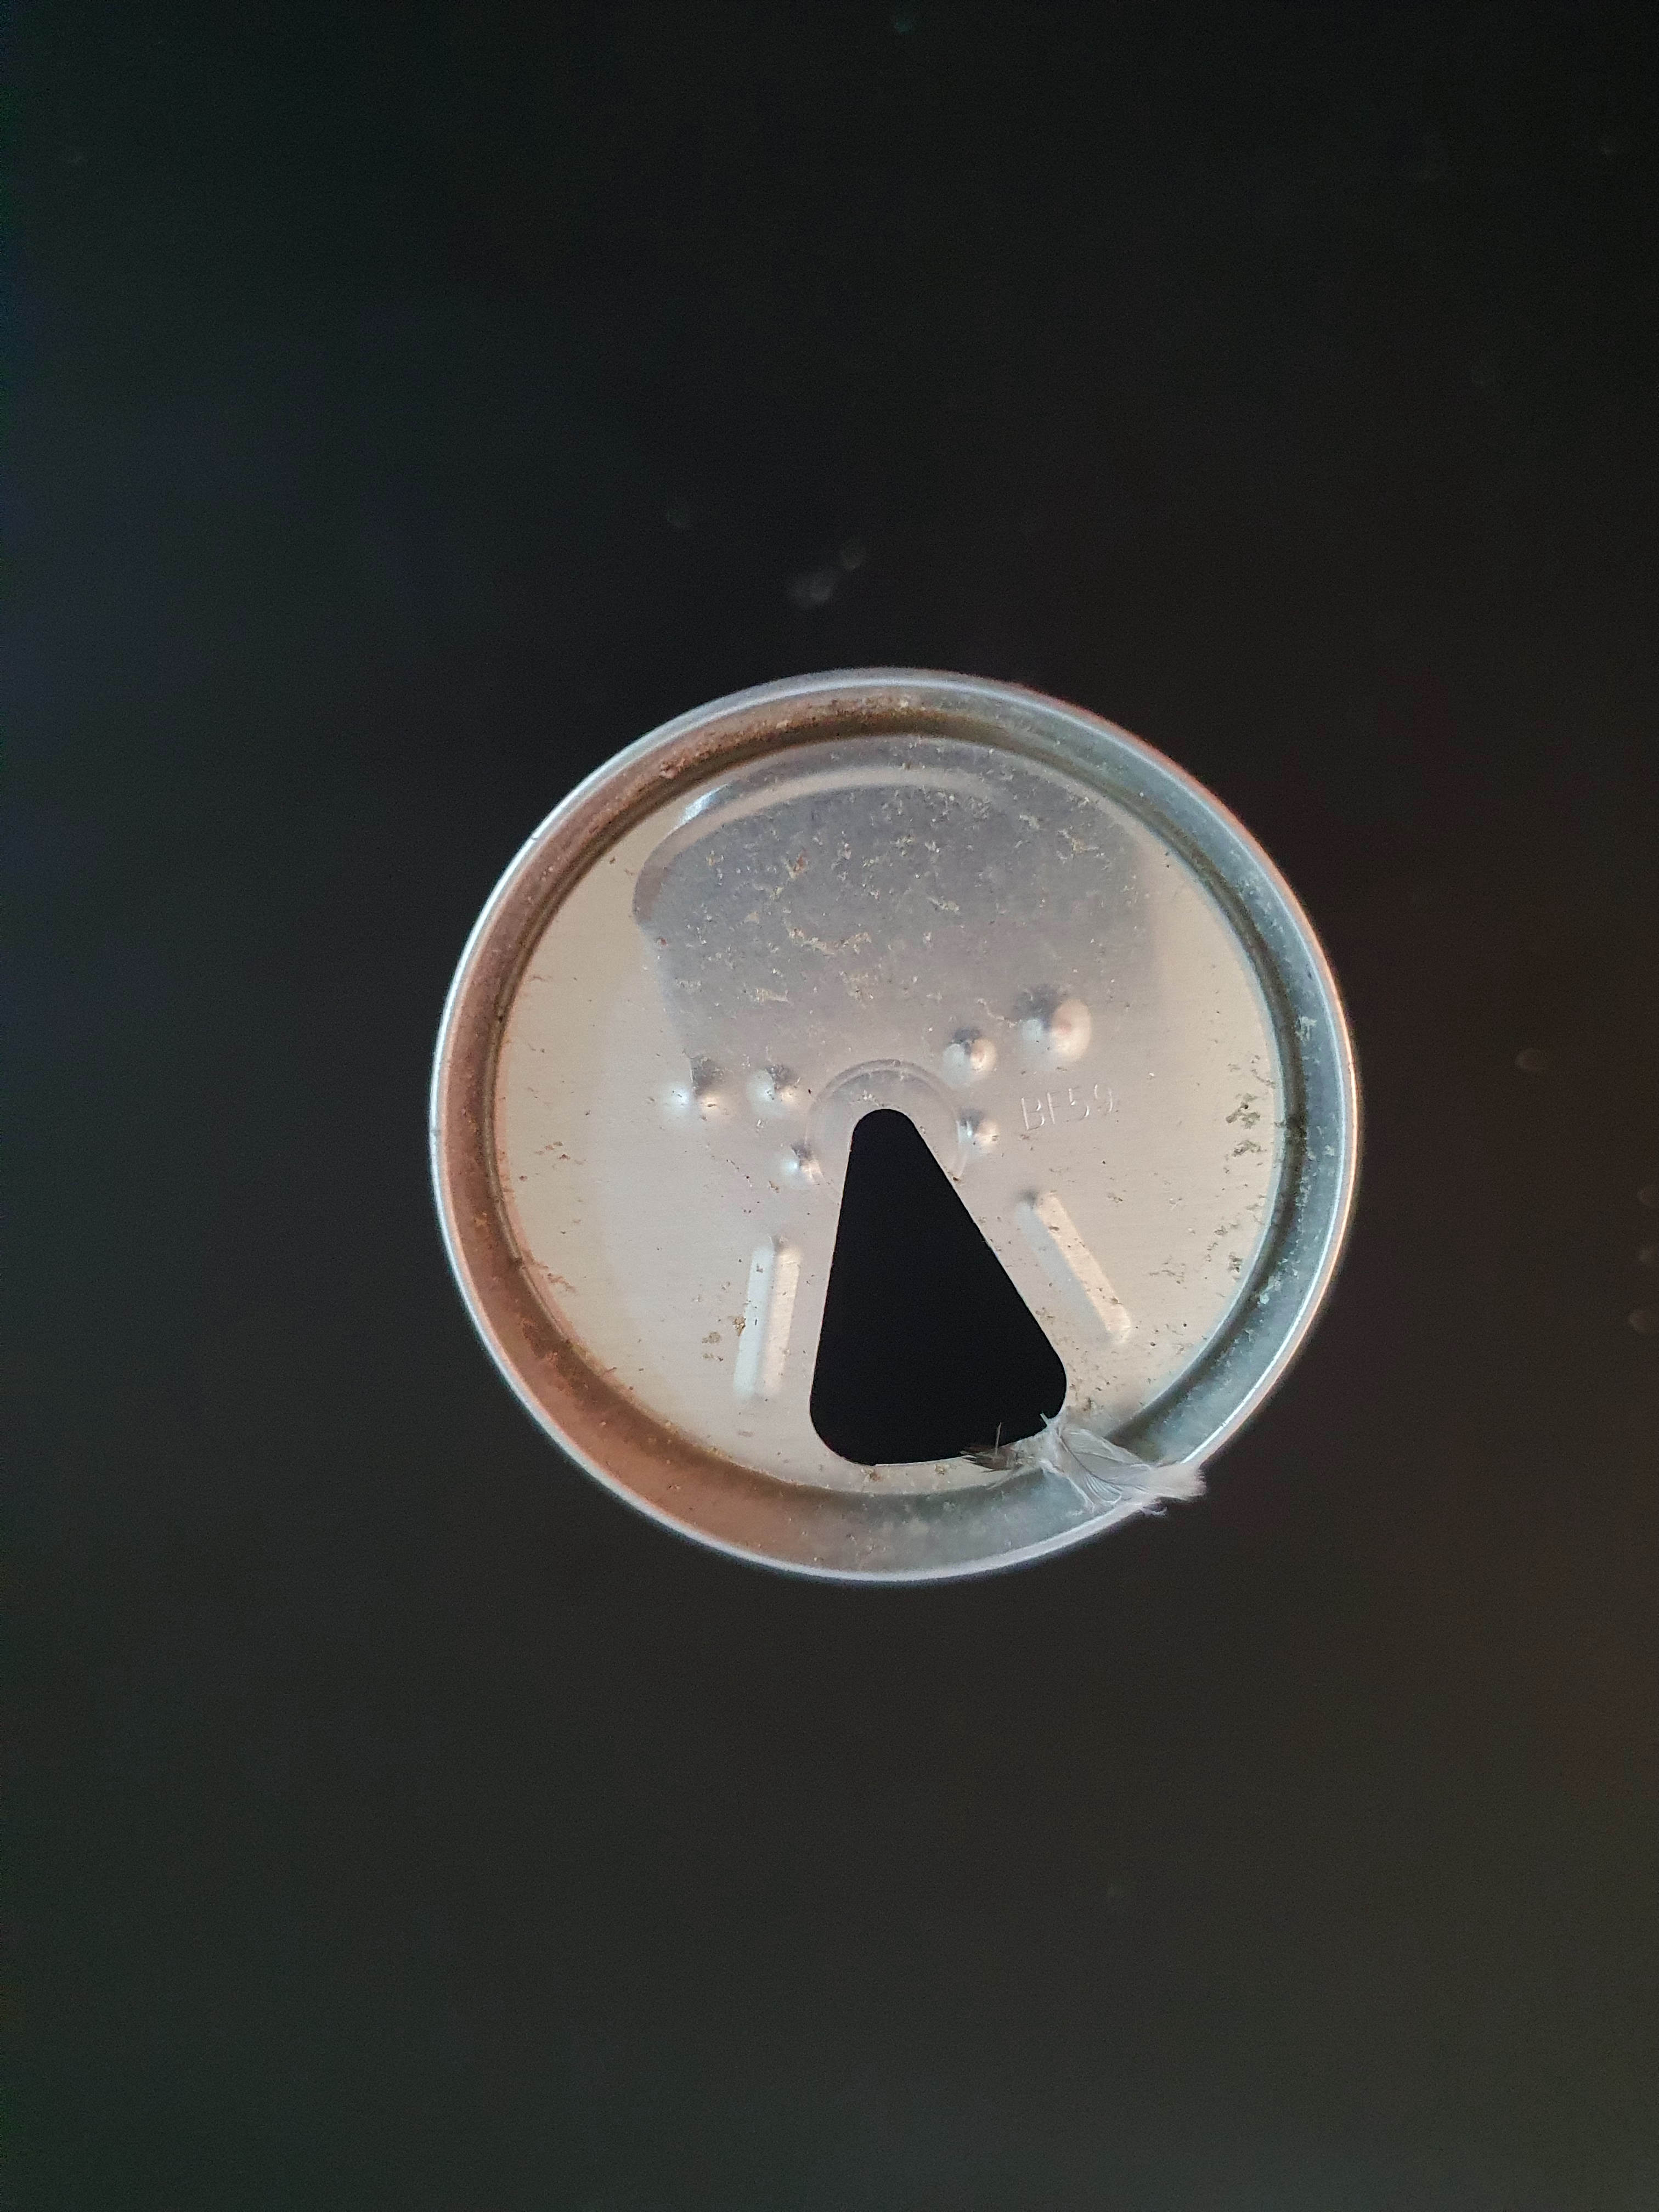metal: (416, 613, 1378, 1686)
